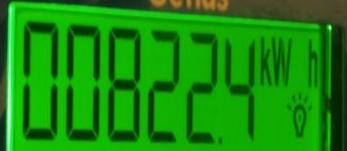.: (259, 33, 322, 90)
0: (217, 137, 225, 146)
1: (20, 21, 61, 144), (64, 25, 104, 142)
3: (183, 30, 222, 145), (146, 30, 182, 145)
5: (225, 35, 257, 142)
9: (106, 25, 144, 143)
